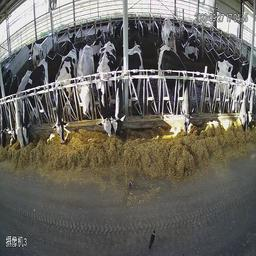cow: (156, 44, 191, 136), (113, 44, 144, 135), (216, 55, 248, 131), (22, 57, 49, 145), (54, 48, 77, 140), (99, 41, 113, 138), (76, 43, 94, 115), (16, 74, 24, 149), (9, 74, 17, 142), (160, 14, 176, 48), (183, 24, 198, 60), (0, 77, 7, 147), (62, 30, 79, 54), (91, 27, 104, 56), (28, 39, 43, 63), (110, 17, 123, 43)
